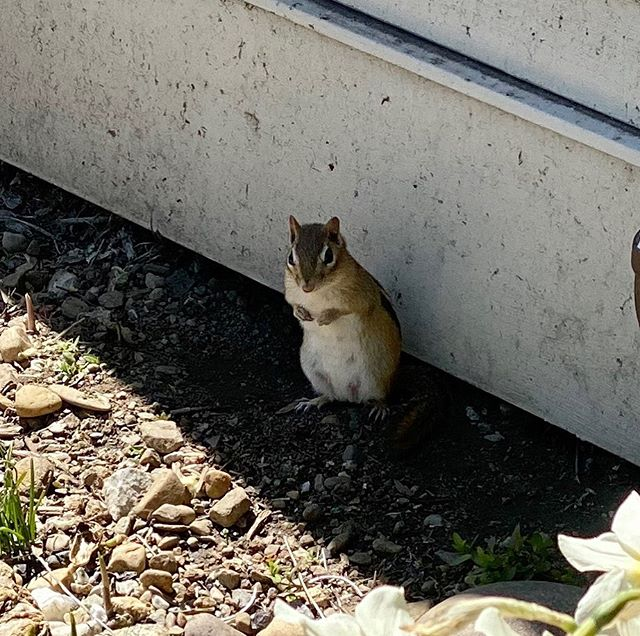animal: (278, 205, 418, 420)
